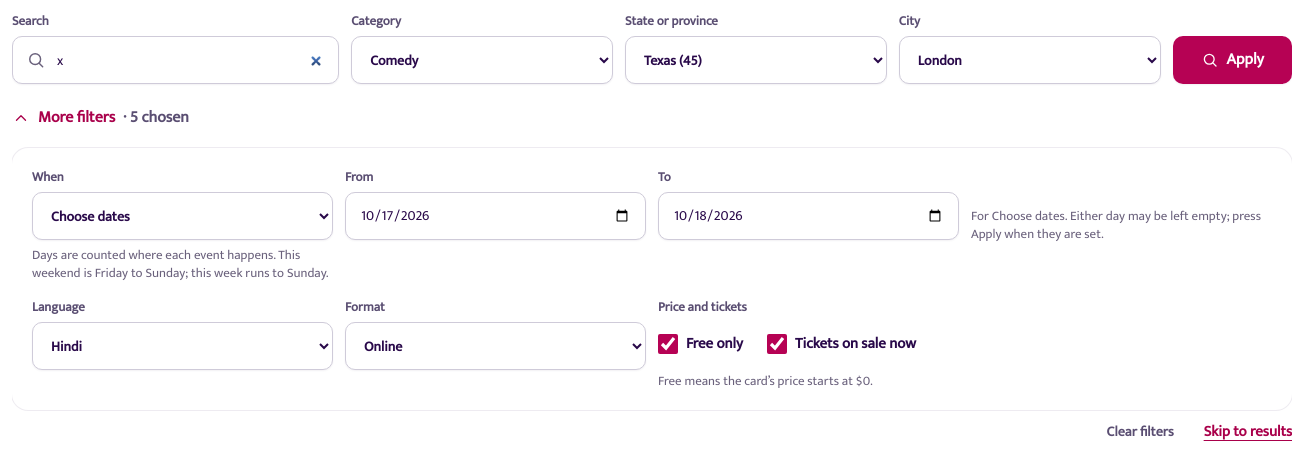
Test: EventFilters › clears every filter at once, in the URL and in every field
What coordinates should you click on to do the following:
click the button "Clear filters"
I would click on:
 (1140, 432)
Its box is left=1093, top=414, right=1188, bottom=450.
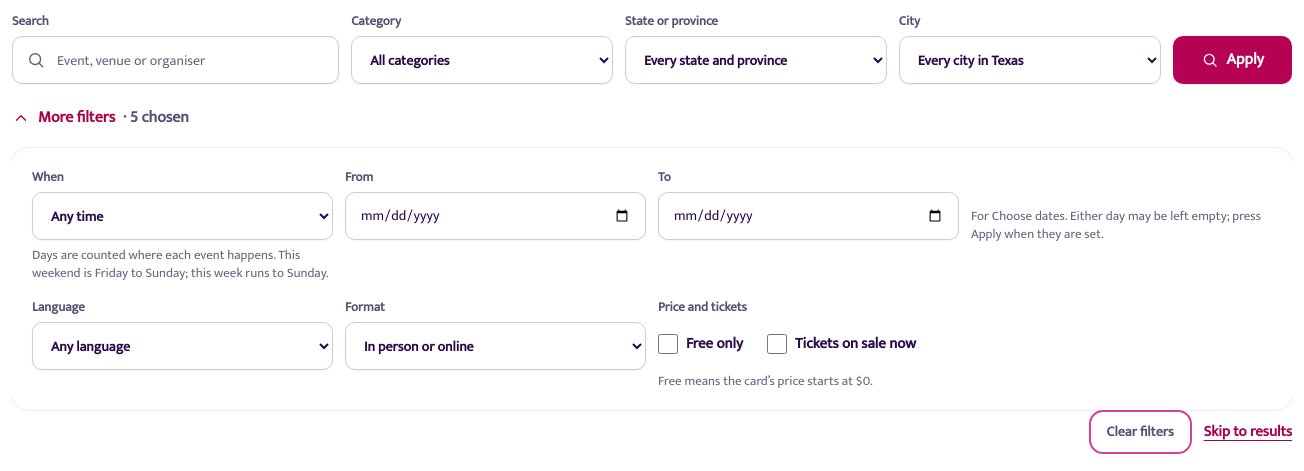
Expected: the dropdown labelled "Category" shows "All categories", left=351, top=36, right=613, bottom=84
Expected: the dropdown labelled "State or province" shows "Every state and province", left=625, top=36, right=887, bottom=84
Expected: the dropdown labelled "City" shows "Every city in Texas", left=899, top=36, right=1160, bottom=84
